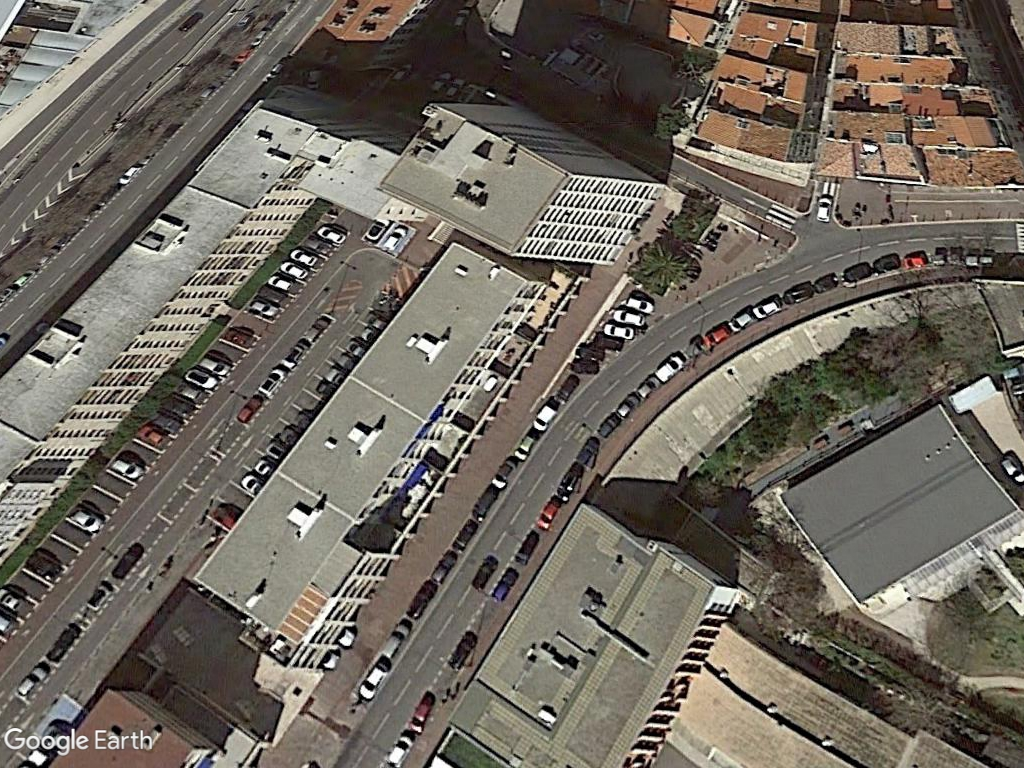car: (68, 504, 106, 536), (108, 454, 146, 481), (315, 224, 351, 246), (601, 320, 637, 341)
